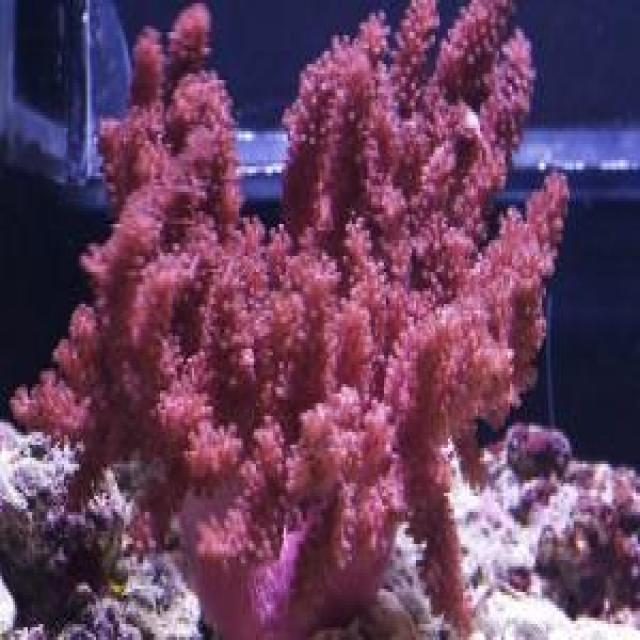healthy coral: (11, 2, 568, 638)
